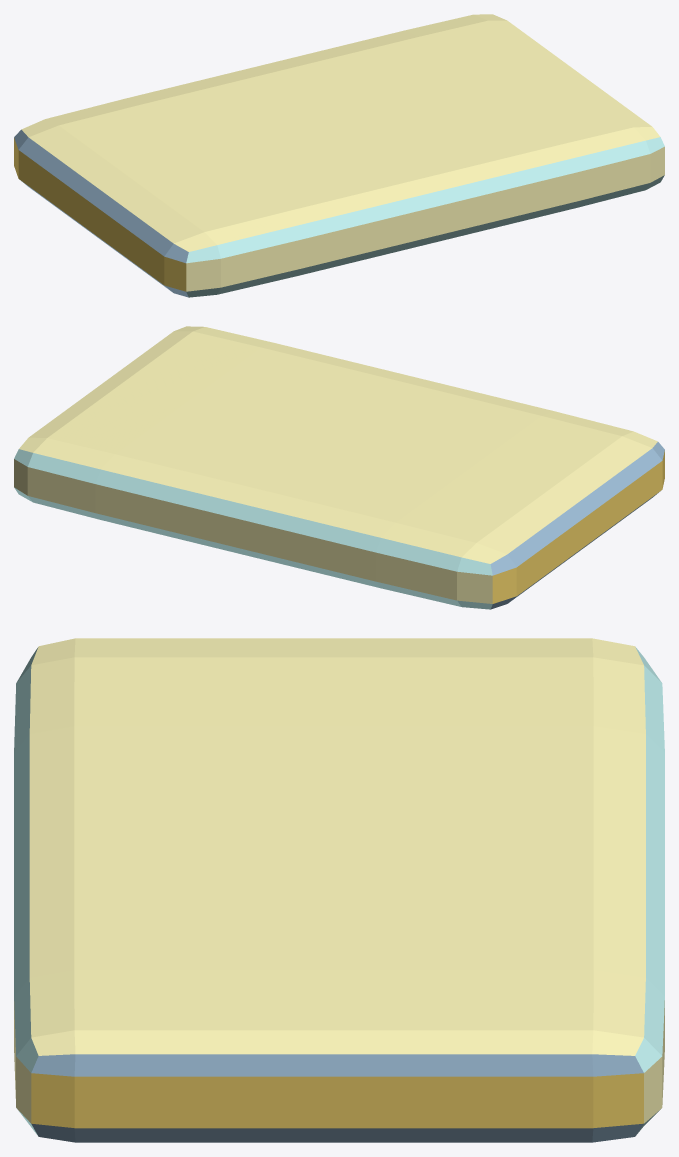
File: Pet Cushion.fbx
3 views of the same model, one above another, from view 1: azimuth 30°, elevation 25°; view 2: azimuth 150°, elevation 25°; view 3: azimuth 270°, elevation 25° (orthographic). The views are drawn at different scales.
Visible parts, largest first — view 1: Pet Cushion; view 2: Pet Cushion; view 3: Pet Cushion.
Boxes of the visible parts, bbox=[...] form: Pet Cushion: bbox=[14, 14, 664, 297]; Pet Cushion: bbox=[14, 326, 664, 609]; Pet Cushion: bbox=[14, 638, 664, 1142].
Size of the model in its own units: 108 by 12.46 by 69.57.
